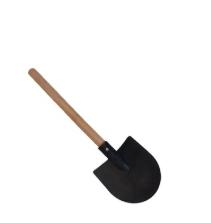PELLE: (19, 23, 164, 223)
